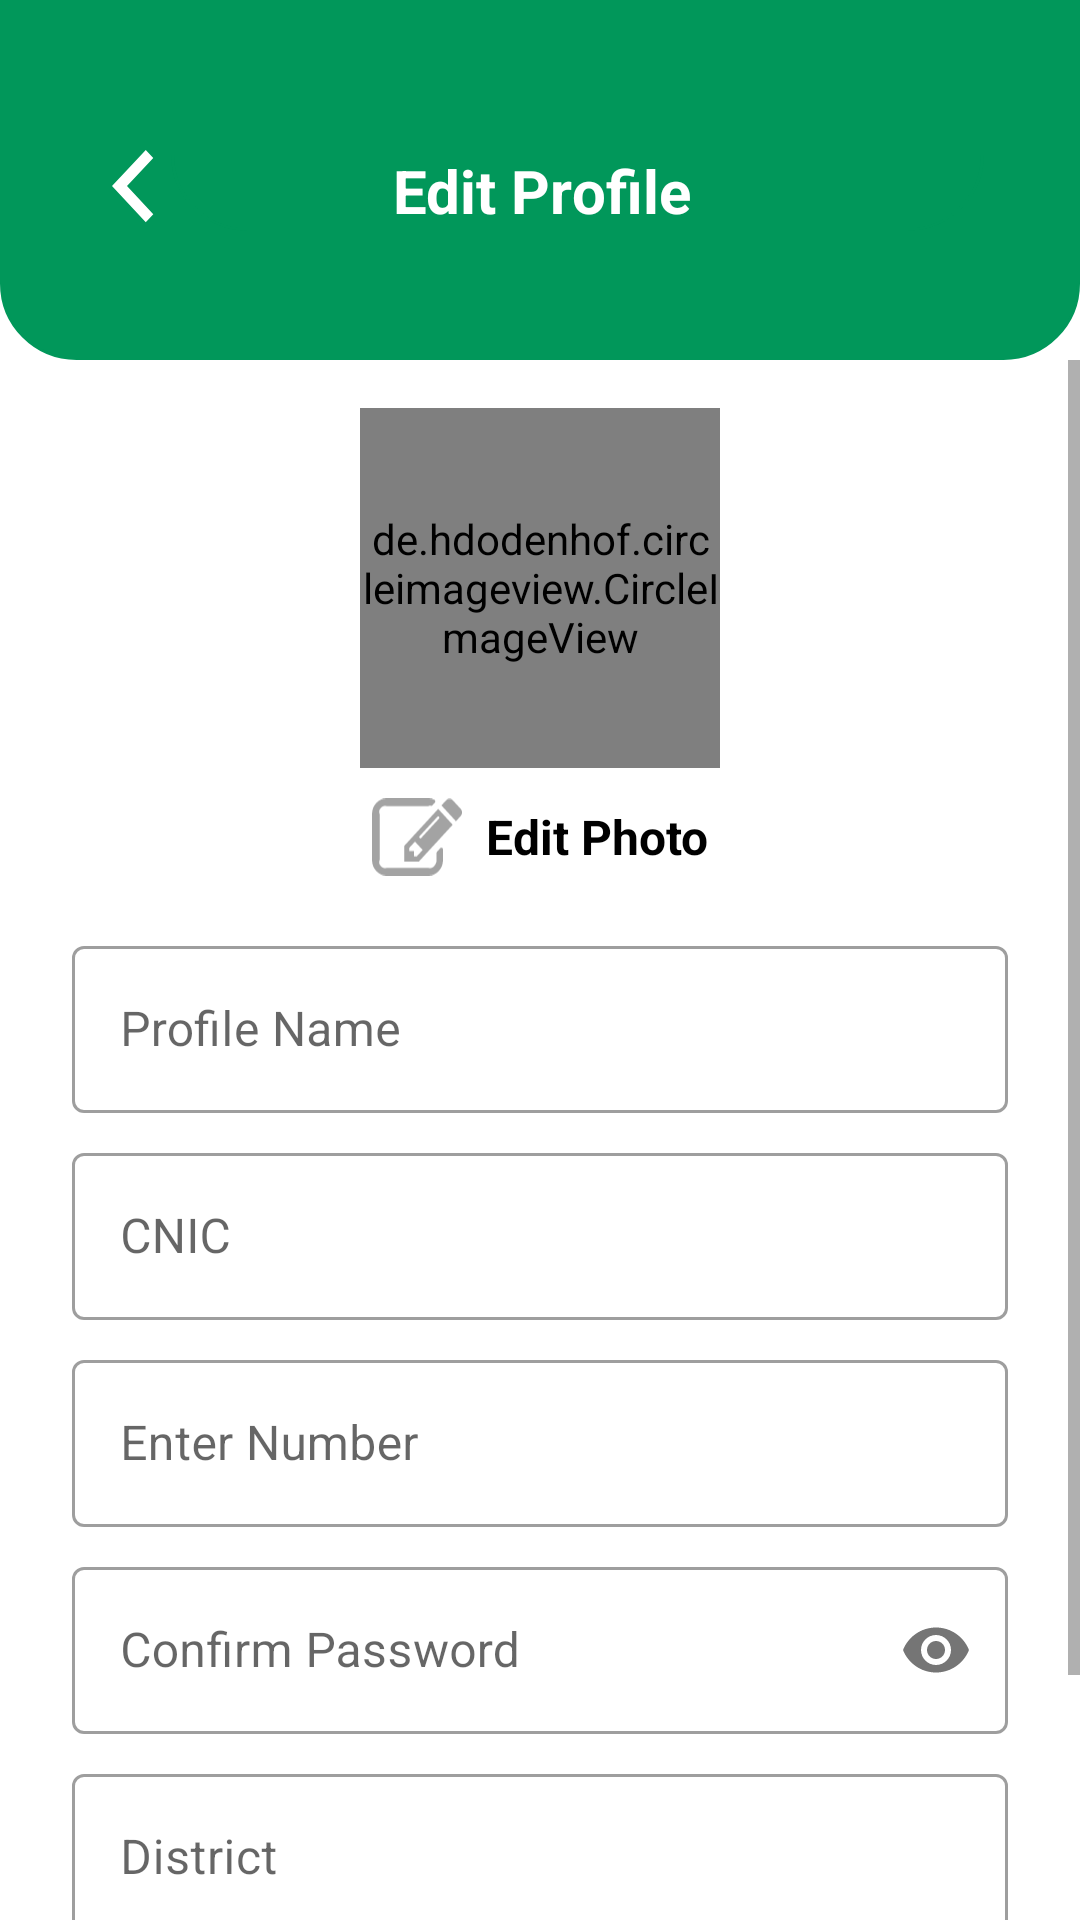

Screen size 1080*1920. Icon name, then its box in pixels as (x1, y1, x2, y2):
back: (112, 150, 153, 222)
